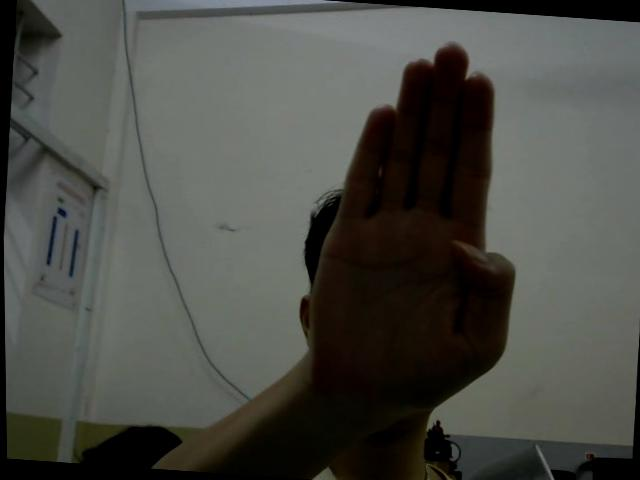B: (299, 30, 530, 413)
